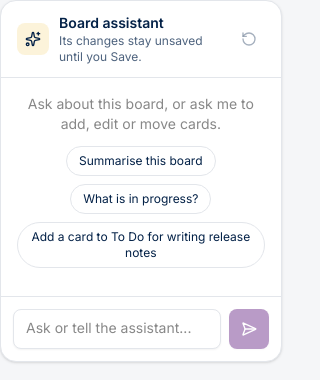
Scenario: ChatPanel › sends the board and conversation, then shows the reply
This screenshot has width=320, height=380.
Type "How many cards?" into the text box named "Message the assistant". click: (117,329)
box: x1=13 y1=309 x2=221 y2=349
Then press Enter
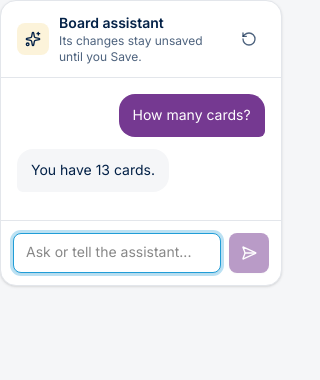
Check: the text box named "Message the assistant" is empty, box x1=13 y1=232 x2=221 y2=272
Check: the text "You have 13 cards." is shown, box x1=17 y1=149 x2=169 y2=192
Check: the text "How many cards?" is shown, box x1=118 y1=94 x2=265 y2=137
